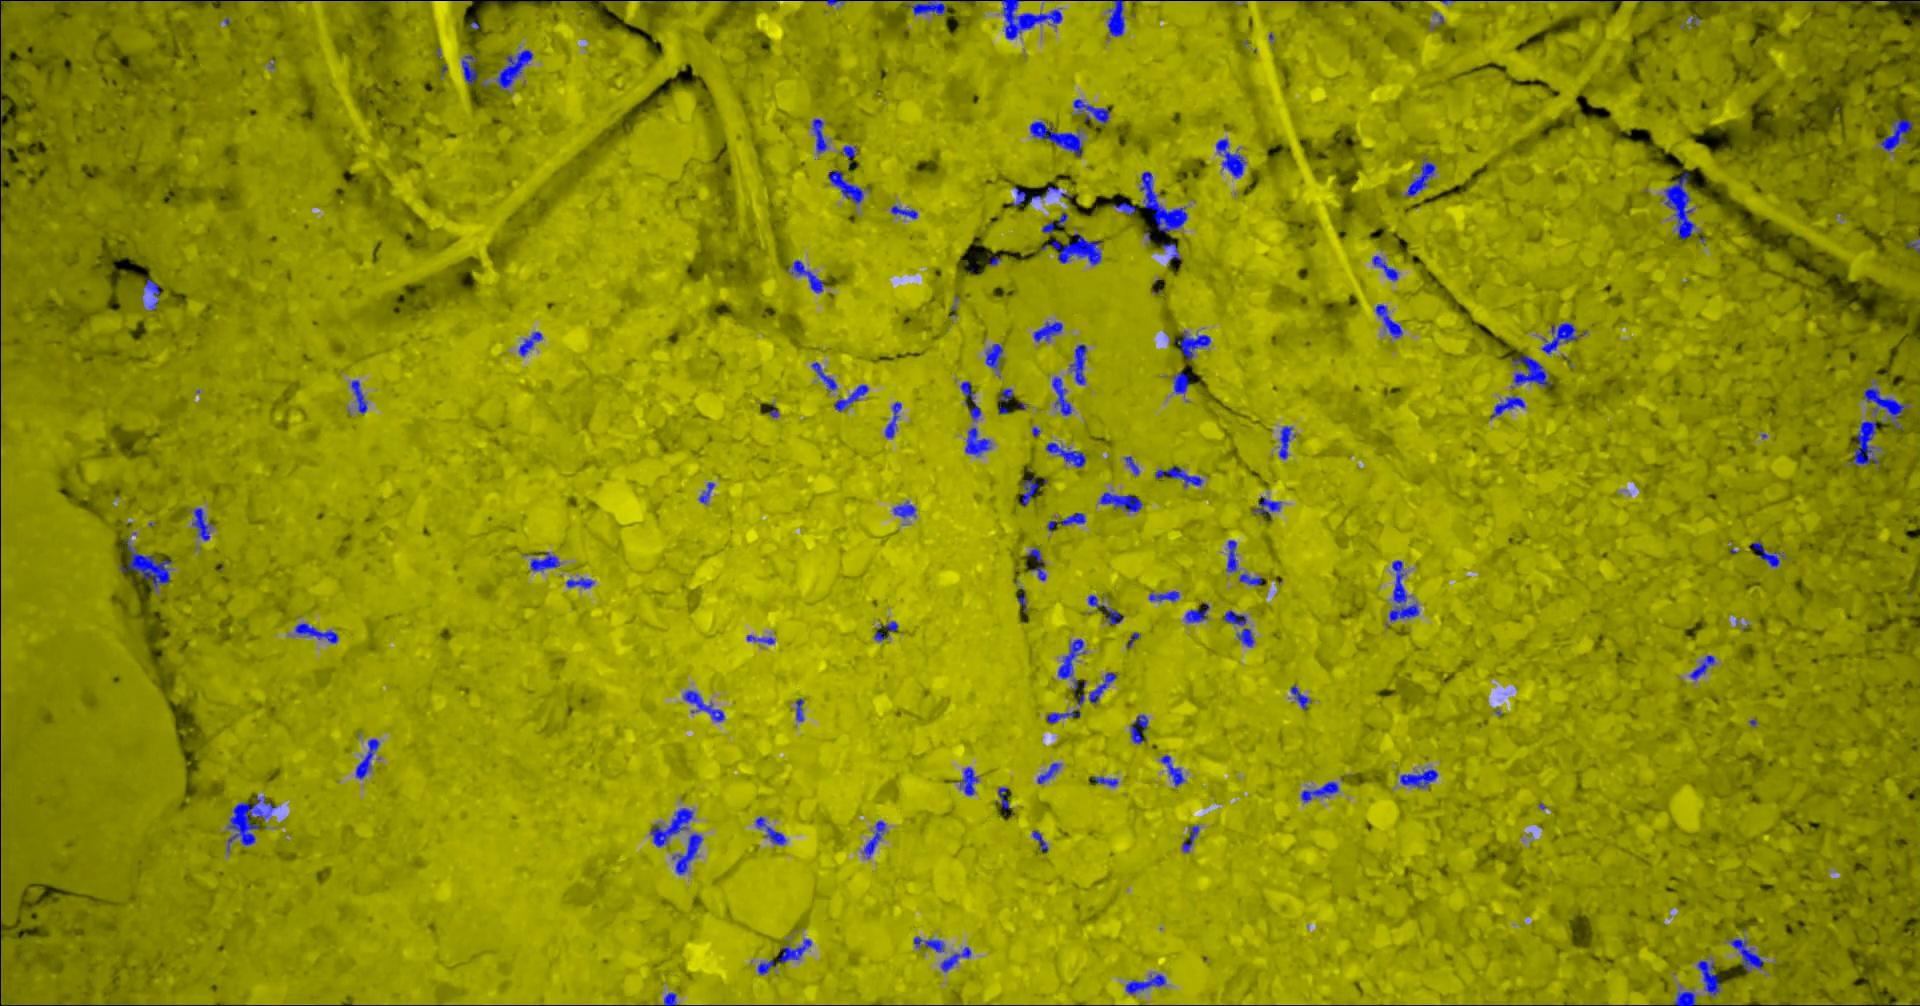ant: (1139, 171, 1187, 232), (226, 795, 276, 851), (119, 539, 171, 589), (1001, 0, 1062, 39), (1663, 171, 1695, 239), (1863, 380, 1907, 427), (757, 937, 811, 974), (1039, 232, 1101, 264), (1388, 560, 1418, 621), (1029, 121, 1081, 156), (650, 807, 693, 847), (1848, 420, 1879, 465), (497, 50, 532, 88), (683, 690, 724, 721), (1511, 353, 1550, 385), (672, 833, 702, 874), (828, 170, 863, 203), (1222, 610, 1253, 647), (1057, 638, 1084, 678), (787, 260, 823, 292), (1215, 138, 1244, 177), (1406, 158, 1435, 196), (1730, 937, 1763, 970), (1542, 323, 1577, 353), (1879, 118, 1912, 150), (1154, 465, 1203, 486), (1175, 330, 1210, 359), (1087, 594, 1123, 624), (1045, 442, 1084, 467), (833, 384, 867, 412), (356, 738, 378, 779), (1072, 99, 1109, 123), (1375, 304, 1402, 337), (1749, 541, 1783, 567), (295, 622, 337, 643), (1088, 672, 1116, 702), (756, 815, 786, 843), (959, 381, 980, 420), (1098, 492, 1142, 511), (1125, 973, 1164, 993), (863, 821, 885, 857), (1490, 395, 1524, 418), (1697, 960, 1719, 995), (965, 426, 990, 456), (1300, 781, 1338, 801), (1051, 376, 1070, 415), (940, 946, 970, 970), (1046, 512, 1084, 531), (1161, 754, 1183, 786), (1399, 768, 1437, 788), (190, 507, 212, 540), (811, 361, 836, 389), (884, 401, 902, 438), (1069, 344, 1086, 384), (1371, 255, 1398, 279), (1106, 0, 1124, 36), (1026, 547, 1045, 580), (1689, 655, 1714, 680), (530, 551, 559, 572), (1277, 426, 1295, 459), (518, 332, 542, 356), (350, 379, 367, 413), (907, 0, 943, 15), (1032, 321, 1062, 340), (1252, 495, 1280, 514), (811, 118, 827, 152), (1041, 212, 1067, 232), (1183, 602, 1209, 622), (1290, 683, 1310, 709), (1020, 478, 1037, 506), (959, 767, 977, 795), (1181, 824, 1199, 852), (1036, 762, 1060, 782), (461, 55, 477, 84), (1130, 714, 1147, 743), (143, 278, 159, 309), (913, 936, 943, 951), (1046, 709, 1079, 723), (985, 343, 1002, 370), (891, 500, 916, 518), (1031, 829, 1048, 854), (1225, 539, 1237, 572), (890, 205, 917, 218), (1172, 371, 1189, 392), (1161, 243, 1180, 260), (842, 145, 857, 166), (698, 481, 714, 503), (1672, 991, 1695, 1005), (1148, 591, 1178, 601), (565, 577, 594, 587), (745, 634, 775, 644), (1112, 201, 1135, 213), (1238, 573, 1261, 586), (996, 788, 1008, 809), (1011, 185, 1025, 205), (1092, 776, 1117, 786), (1124, 456, 1138, 474), (999, 387, 1013, 401), (795, 699, 803, 721), (663, 992, 676, 1005), (180, 0, 236, 1)
